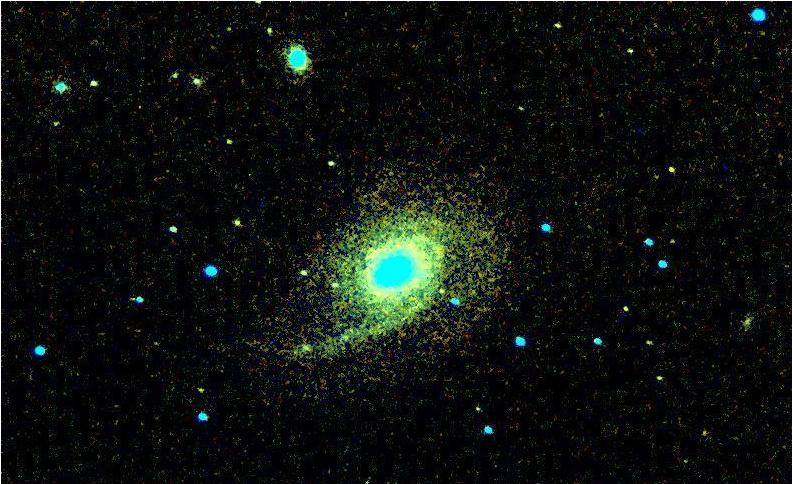star: (657, 155, 687, 185)
